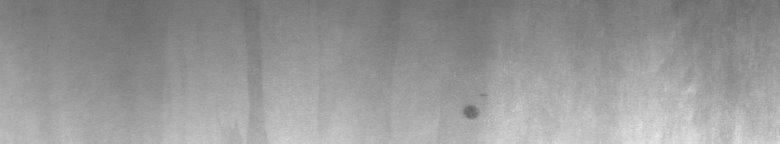fi: (461, 94, 487, 124)
